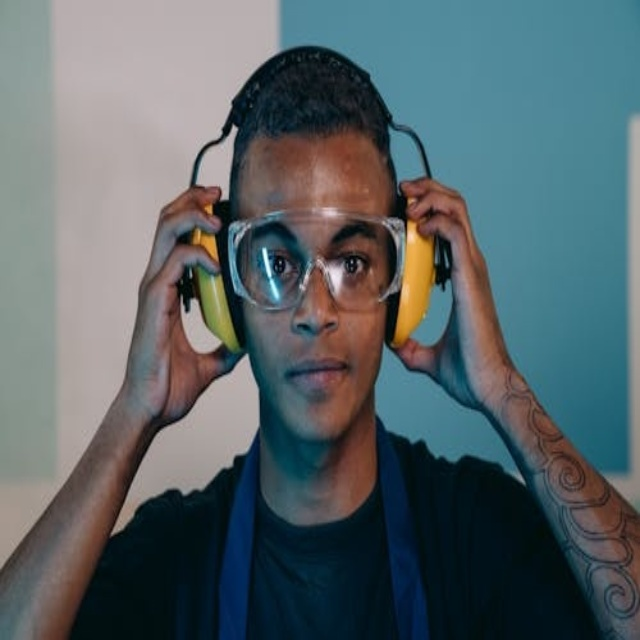Gafas: (223, 207, 410, 314)
Sin_guantes: (131, 175, 253, 431), (389, 165, 513, 411)
Sin_mascara: (285, 360, 350, 390)
